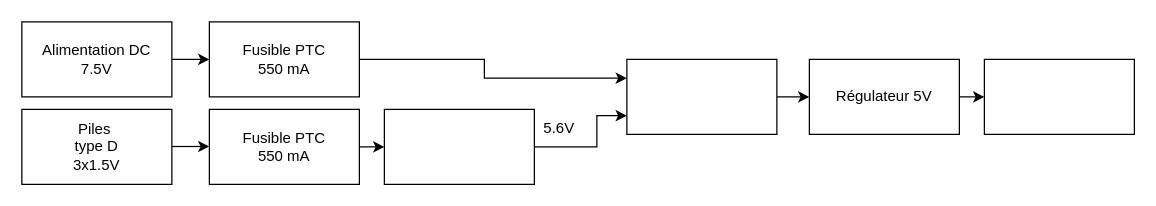
This 1156x206 diagram has some shape labels left out. Each missing label, with the box of its shape:
Circuit de commutation: (626, 58, 777, 134)
Régulateur 3.3V: (983, 58, 1134, 134)
Régulateur découplage de type survolteur: (383, 108, 534, 184)
